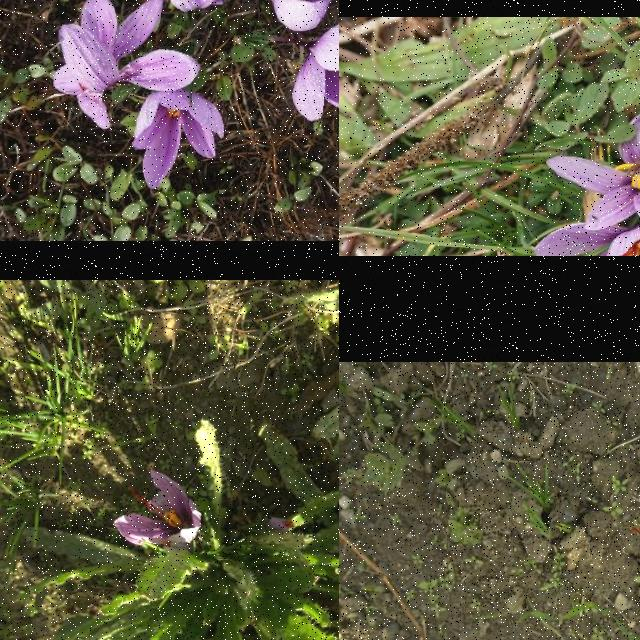flower: (54, 0, 202, 129), (132, 90, 225, 190), (114, 470, 200, 548), (292, 23, 339, 121), (269, 0, 339, 32), (270, 518, 296, 532)
overlap: (534, 109, 640, 256)
